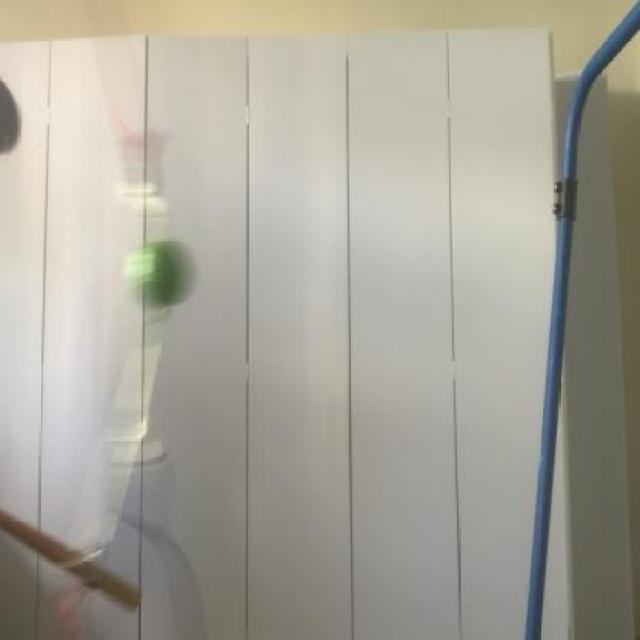baseball: (124, 234, 196, 314)
